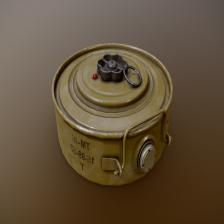TM-46: (42, 31, 180, 194)
